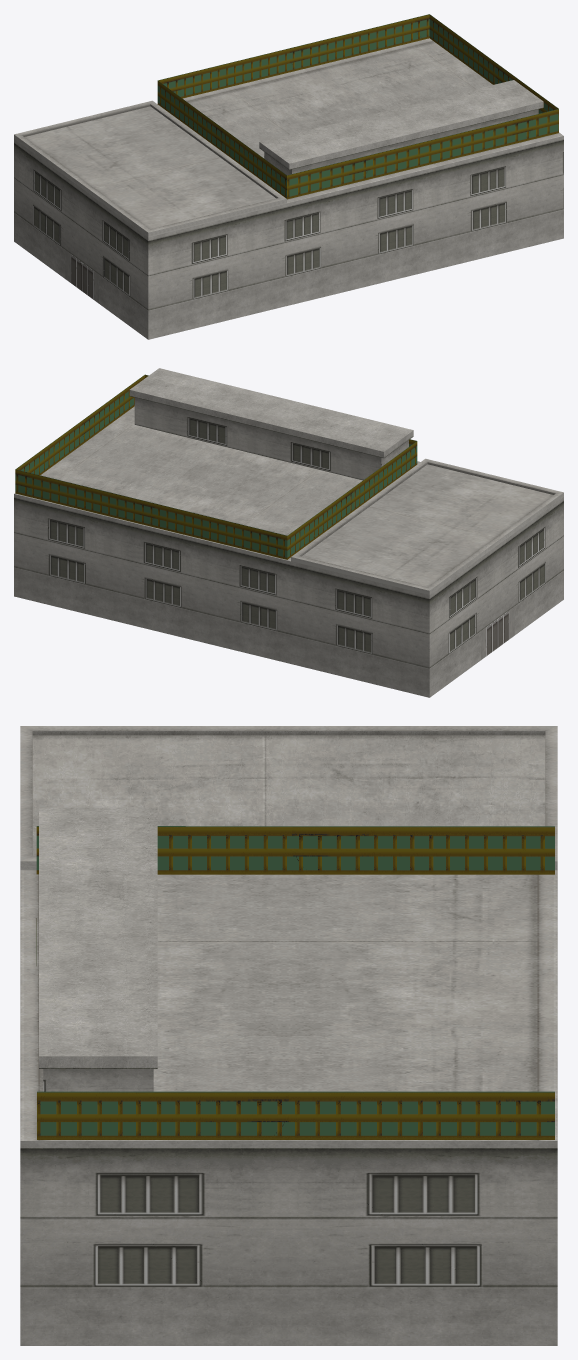
The model's file is 中控室.obj.
3 renders of one model, top to bottom at view 1: azimuth 30°, elevation 25°; view 2: azimuth 150°, elevation 25°; view 3: azimuth 270°, elevation 25°, orthographic. The views are drawn at different scales.
Visible parts, largest first — view 1: Box085; view 2: Box085; view 3: Box085.
Part boxes in pixels (bbox=[...]): Box085: bbox=[14, 14, 563, 339]; Box085: bbox=[14, 368, 563, 697]; Box085: bbox=[20, 726, 557, 1345].
Bounding box in the file's own units: 88.67 × 27.98 × 49.65.
